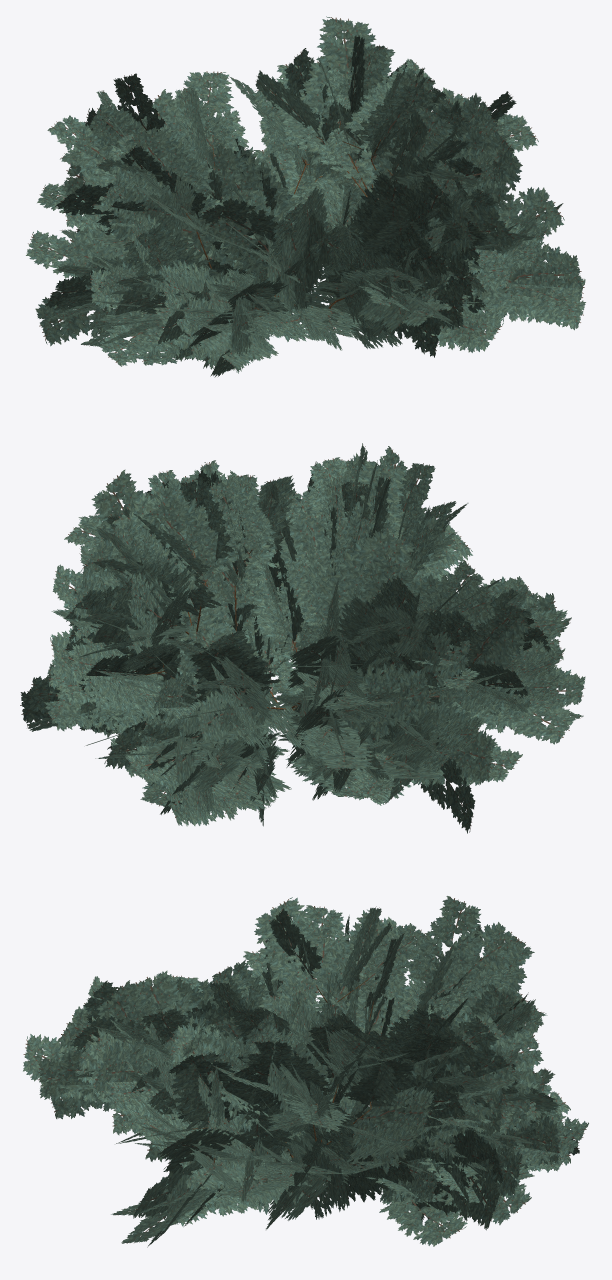
File: juniper_low_v01_LOD1.glb
The picture shows the model from 3 angles, top to bottom: view 1: azimuth 30°, elevation 25°; view 2: azimuth 150°, elevation 25°; view 3: azimuth 270°, elevation 25°; orthographic projection. The views are drawn at different scales.
Parts seen in each view (by area): view 1: juniper_low_v01_LOD1; view 2: juniper_low_v01_LOD1; view 3: juniper_low_v01_LOD1.
Boxes of the visible parts, bbox=[...] form: juniper_low_v01_LOD1: bbox=[26, 16, 585, 377]; juniper_low_v01_LOD1: bbox=[20, 443, 585, 833]; juniper_low_v01_LOD1: bbox=[23, 896, 588, 1247].
Size of the model in its own units: 1.44 by 0.8 by 1.51.
Materials: 2 (2 with a texture image).
